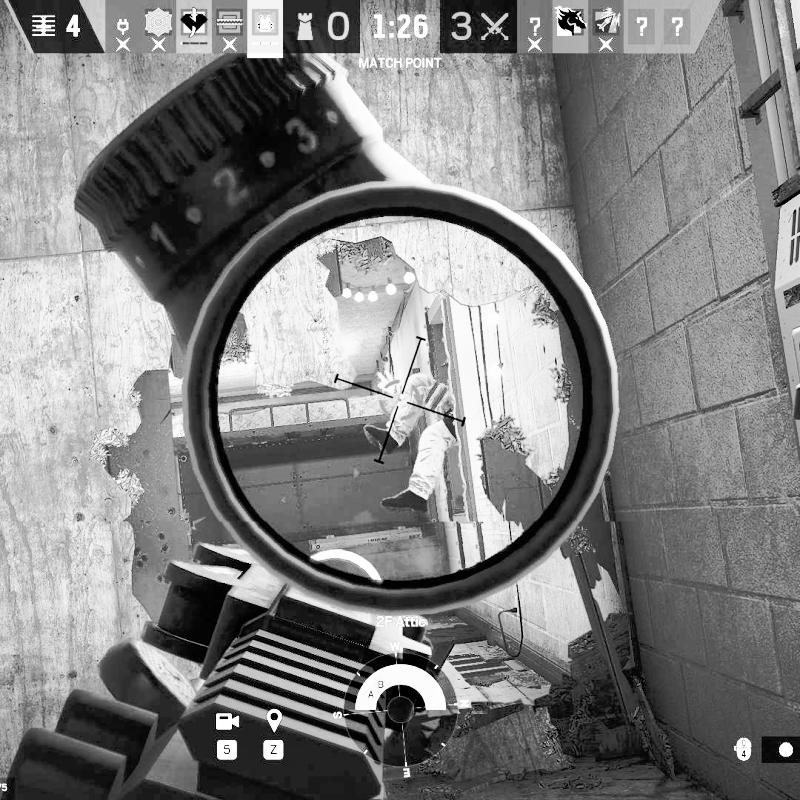Character: (362, 372, 461, 516)
